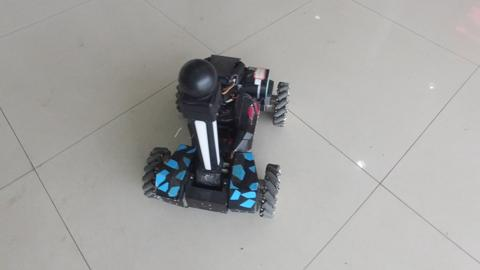chariot: (138, 41, 292, 211)
